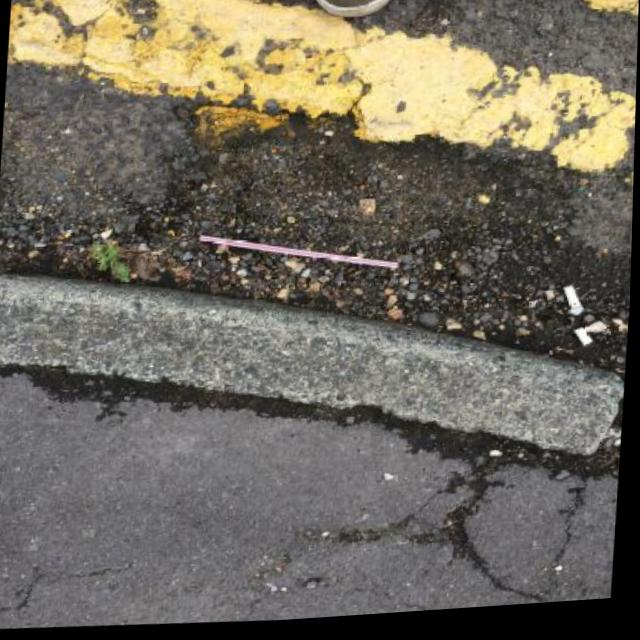plastic: (195, 221, 401, 282)
